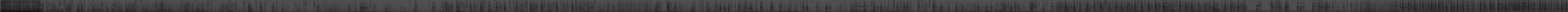Moan: (1413, 0, 1416, 12), (1489, 0, 1492, 12), (1560, 0, 1563, 12), (1402, 0, 1404, 12), (1430, 0, 1432, 12), (1527, 0, 1529, 12)
